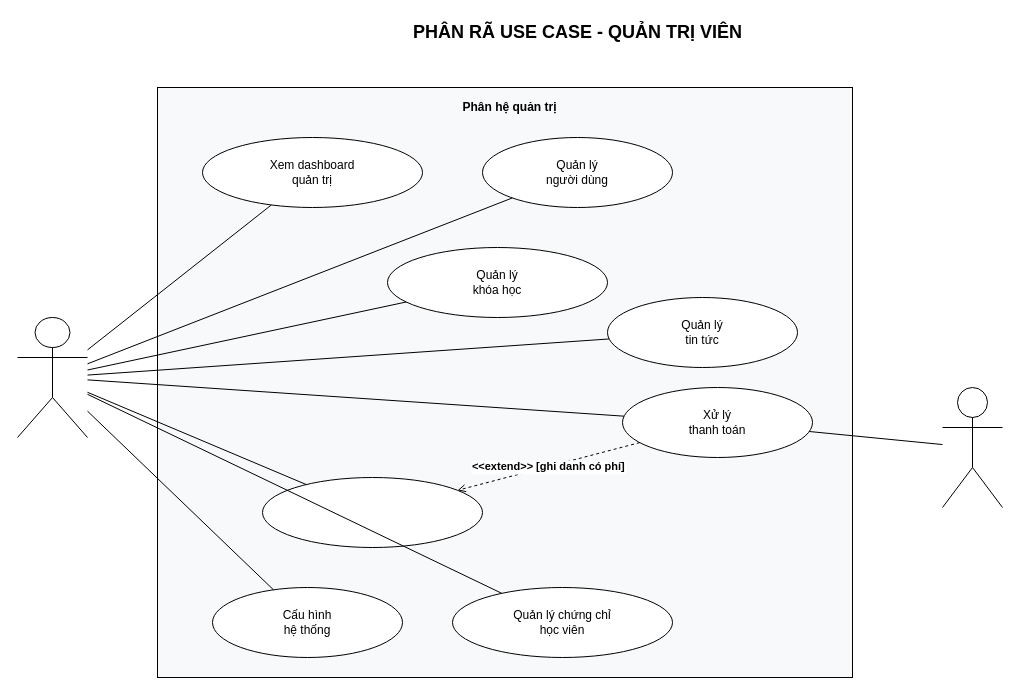
This 1020x695 diagram has some shape labels left out. Here are the shapes that lost their labels. From the top down, the box of each, then its label:
(16, 316, 88, 438): Quản trị viên
(942, 386, 1002, 508): VNPay
(262, 476, 482, 548): Duyệt ghi danh
